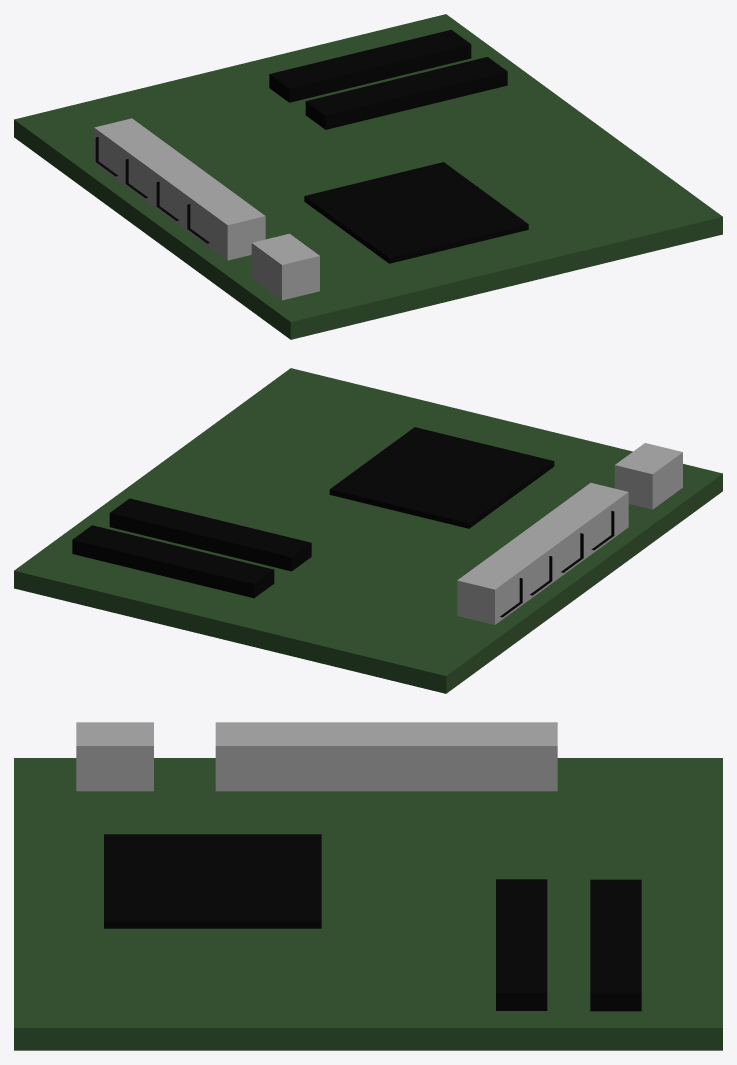
The model's file is Motherboard.fbx.
3 renders of one model, top to bottom at view 1: azimuth 30°, elevation 25°; view 2: azimuth 150°, elevation 25°; view 3: azimuth 270°, elevation 25°, orthographic. The views are drawn at different scales.
Visible parts, largest first — view 1: Cube; view 2: Cube; view 3: Cube.
Part boxes in pixels (bbox=[...]): Cube: bbox=[14, 14, 722, 339]; Cube: bbox=[14, 368, 722, 693]; Cube: bbox=[14, 722, 722, 1050].
Bounding box in the file's own units: 115 × 14 × 127.
